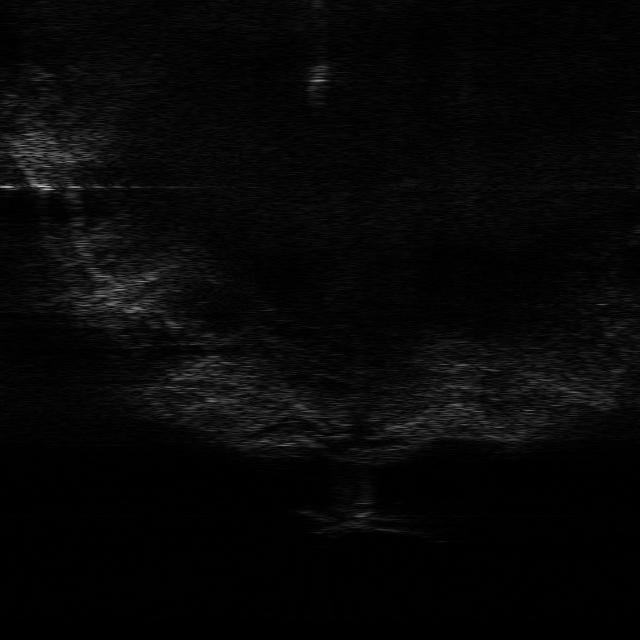plane: (296, 505, 414, 536)
